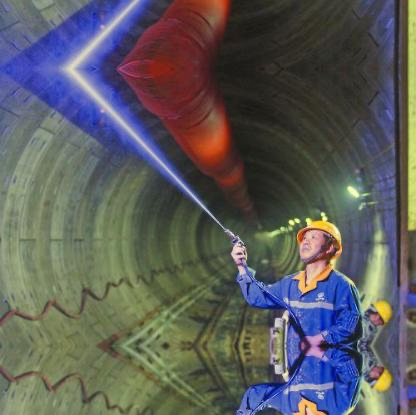Safety Helmet: (283, 212, 350, 281)
